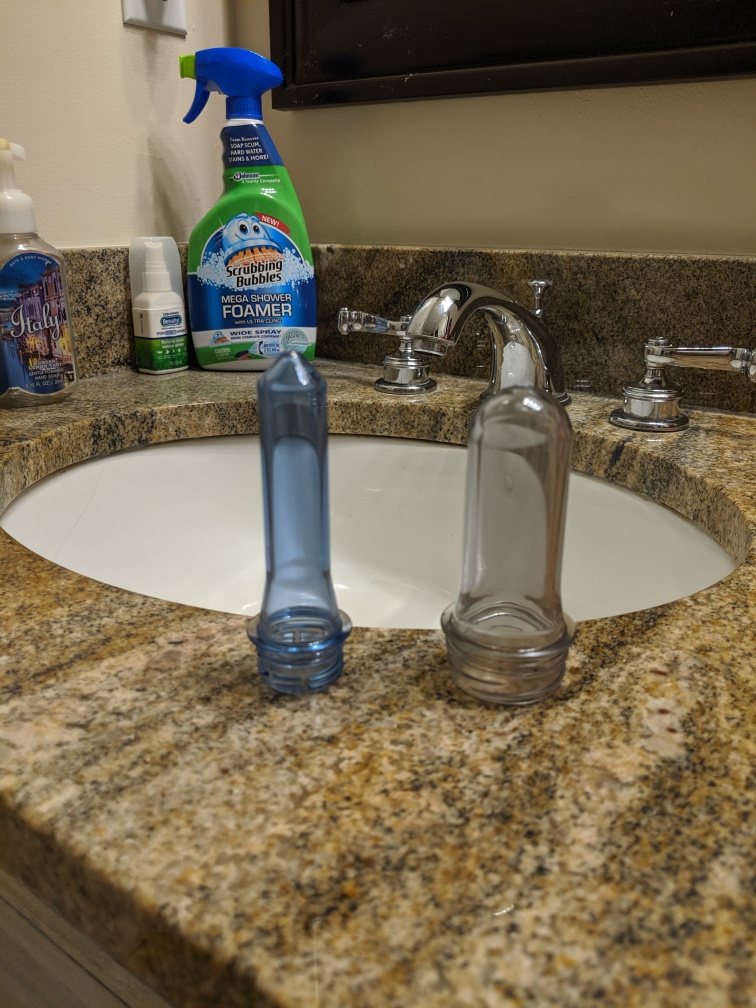preform: (432, 381, 591, 719), (243, 344, 360, 701)
